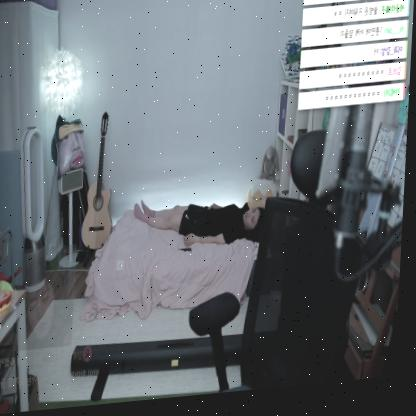streamer: (132, 192, 270, 258)
